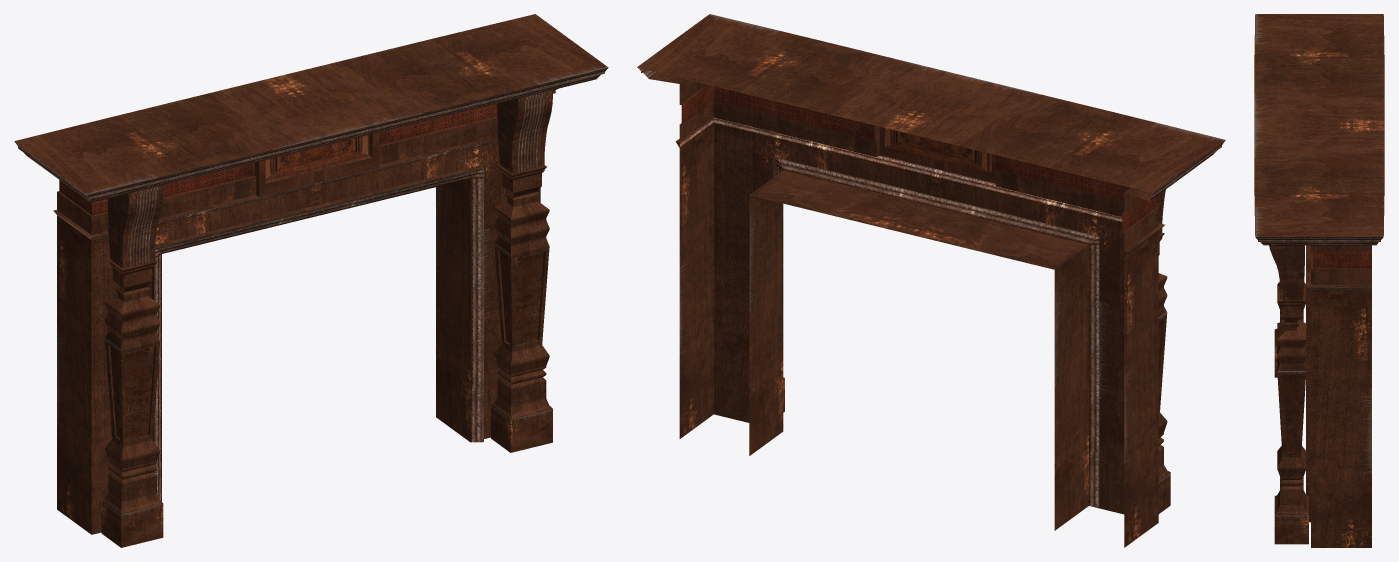
Rendered from Fireplace.FBX.
3 views of the same model, side by side, from view 1: azimuth 30°, elevation 25°; view 2: azimuth 150°, elevation 25°; view 3: azimuth 270°, elevation 25° (orthographic). The views are drawn at different scales.
Parts seen in each view (by area): view 1: Fireplace; view 2: Fireplace; view 3: Fireplace.
Part boxes in pixels (left/top/right/bottom): Fireplace: left=14, top=14, right=608, bottom=547; Fireplace: left=637, top=14, right=1225, bottom=547; Fireplace: left=1254, top=14, right=1384, bottom=547.
Size of the model in its own units: 247 by 168 by 60.73.
